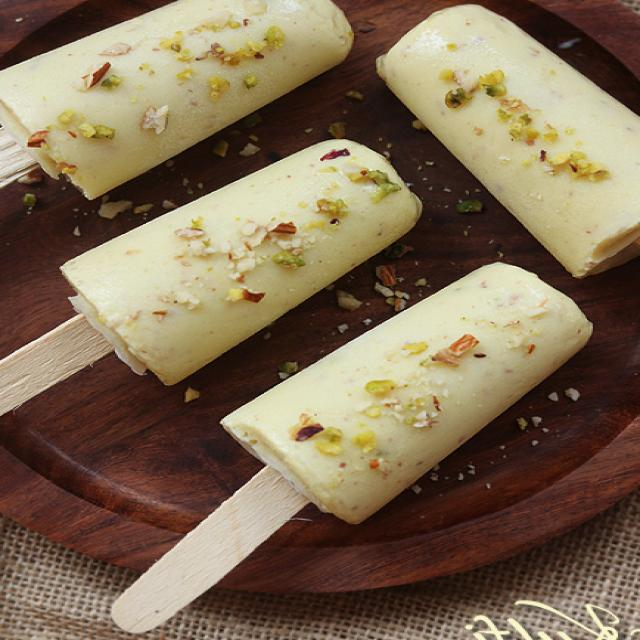kulfi: (211, 257, 615, 531), (54, 142, 416, 371), (401, 0, 640, 270)
